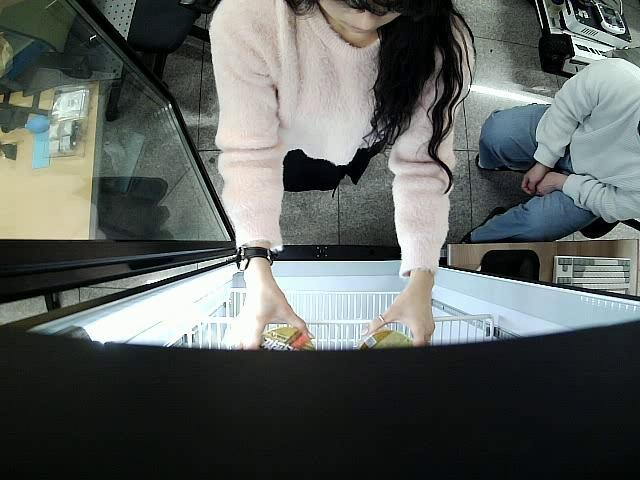04_chapagetti_S: (256, 328, 318, 359), (358, 329, 418, 358)
